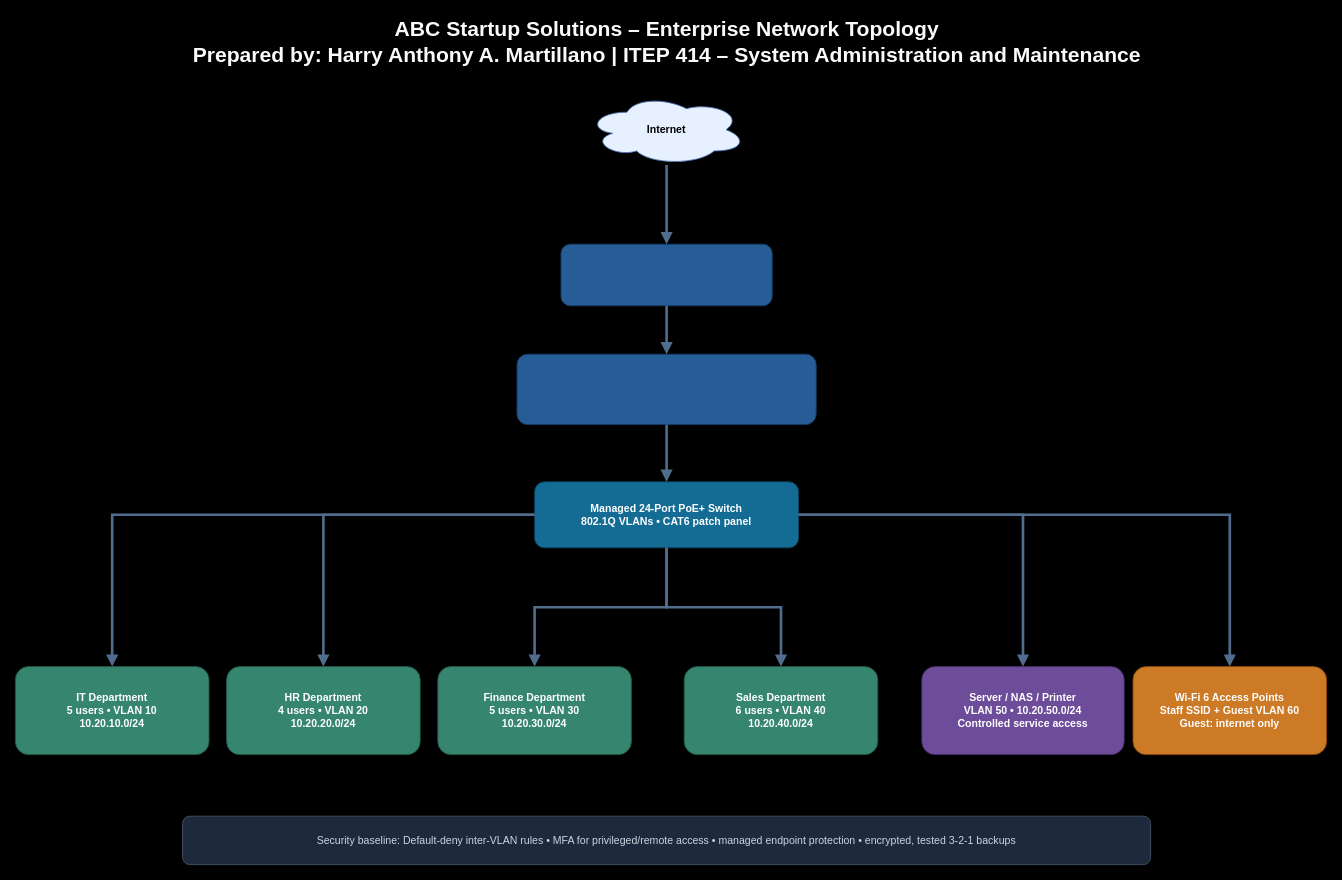
The diagram is 1342 pixels wide and 880 high, and some of its shapes have lost their labels. The shapes that lost their labels are listed below. From the top down, each one's centre as x and y in pixels, then its label:
the point at 666,274: ISP Modem / ONT Business Fibre • 300 Mbps+
the point at 666,389: Next-Generation Firewall / Router NAT • VPN • IPS • VLAN gateway • ACLs
